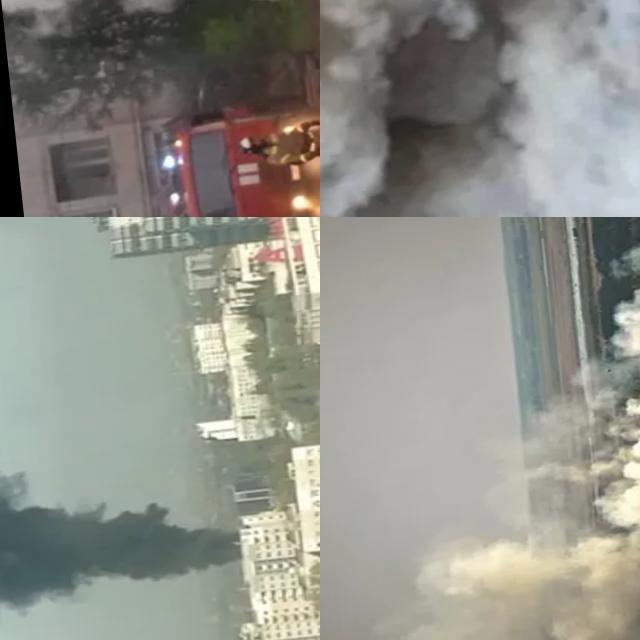smoke: (320, 217, 640, 640), (320, 0, 640, 217), (0, 412, 238, 640)
